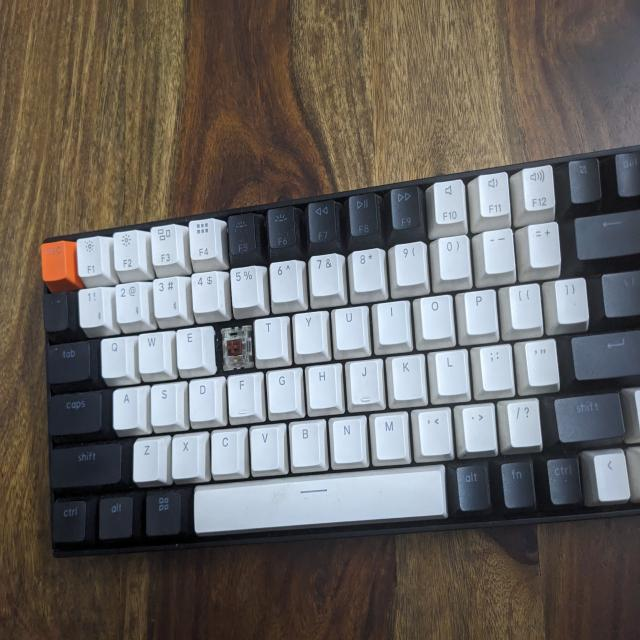C: (219, 324, 253, 368)
